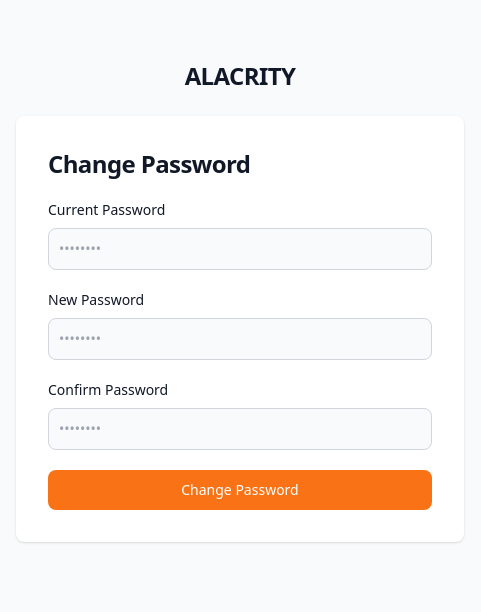
Scenario: ChangePassword component › shows an error if new password does not meet criteria
In the password field labelled "Current Password": [240, 249] box [48, 228, 432, 270], type "OldPassword123!"
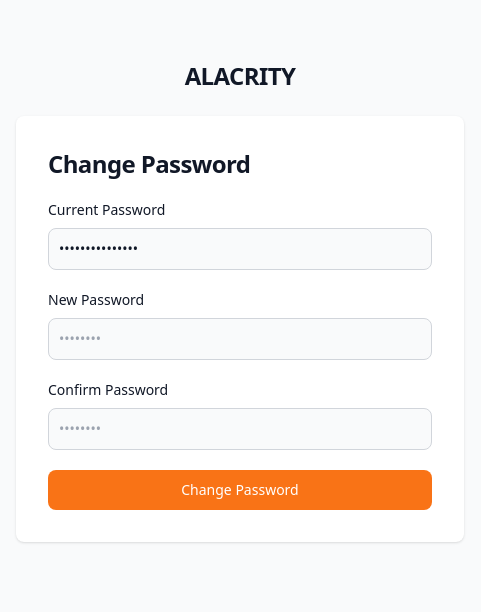
# Enters an invalid new password
In the password field labelled "New Password": [240, 339] box [48, 318, 432, 360], type "short"
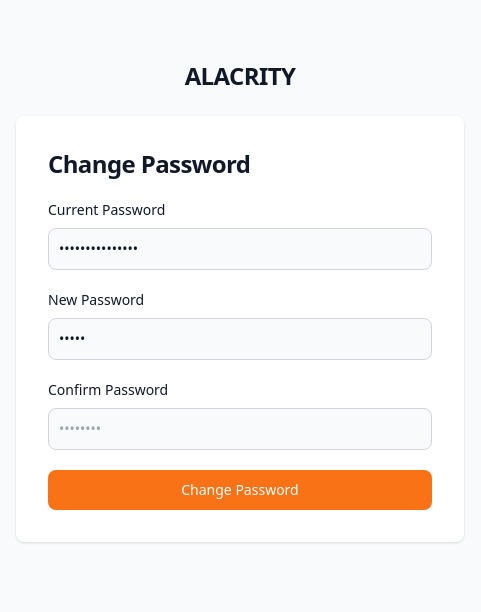
In the password field labelled "Confirm Password": [240, 429] box [48, 408, 432, 450], type "short"
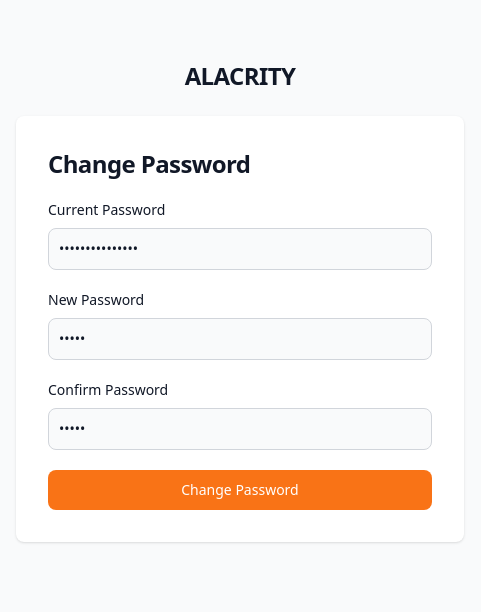
Click the button "Change Password": [240, 490] box [48, 470, 432, 510]
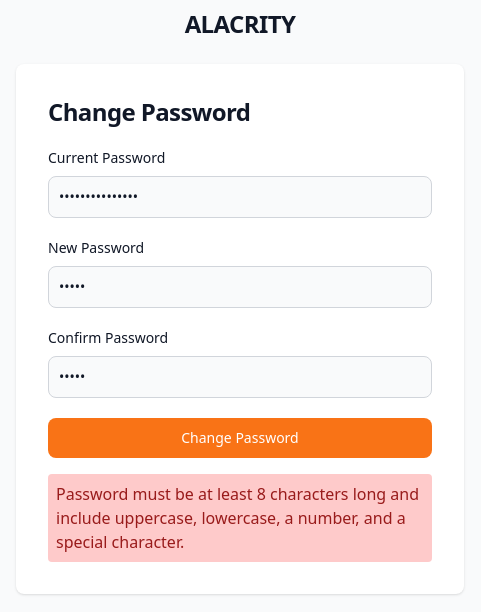
expect the text "Password must be at least 8 characters long" is shown: met, box [56, 483, 419, 553]
